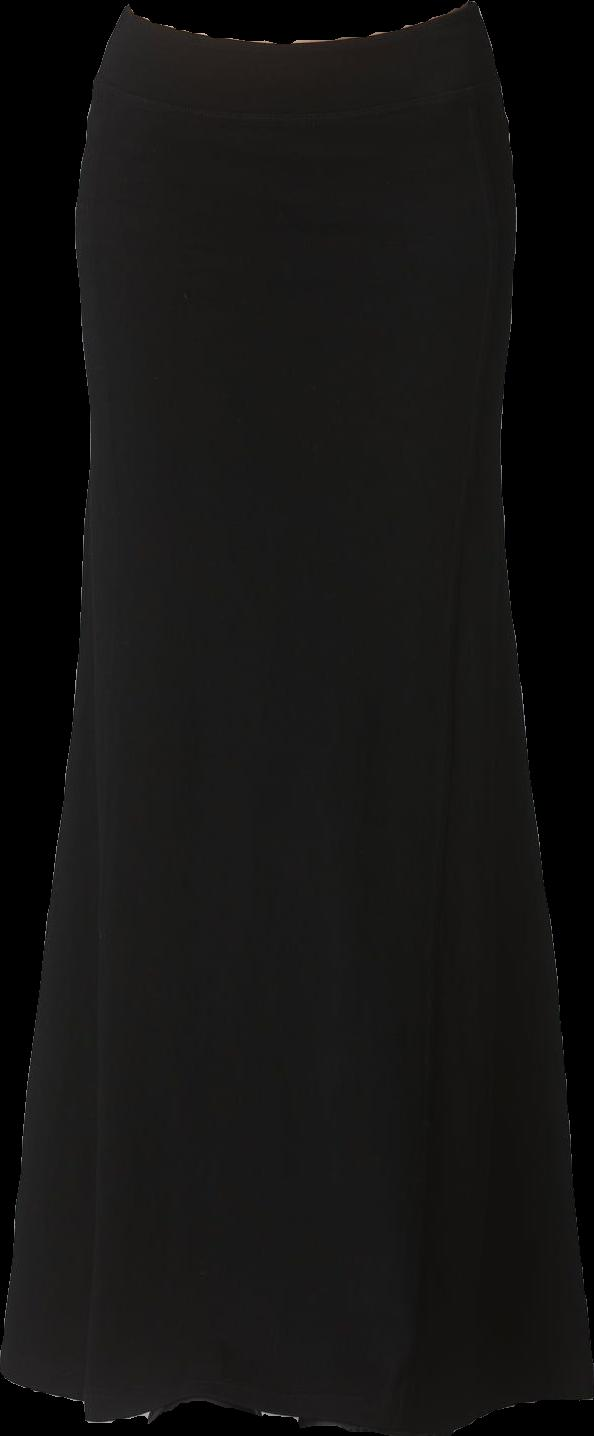Hemline: (0, 1356, 593, 1435)
Waistline: (92, 63, 496, 124), (125, 0, 474, 52)
